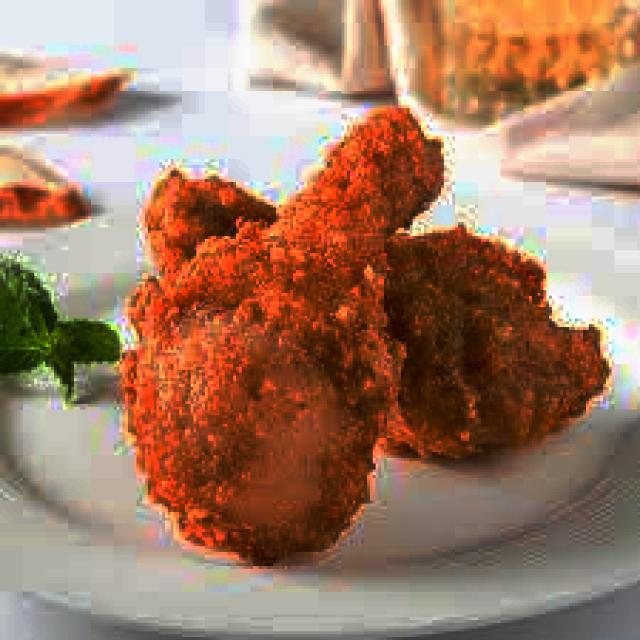fried_chicken: (142, 142, 612, 464), (128, 94, 438, 560)
